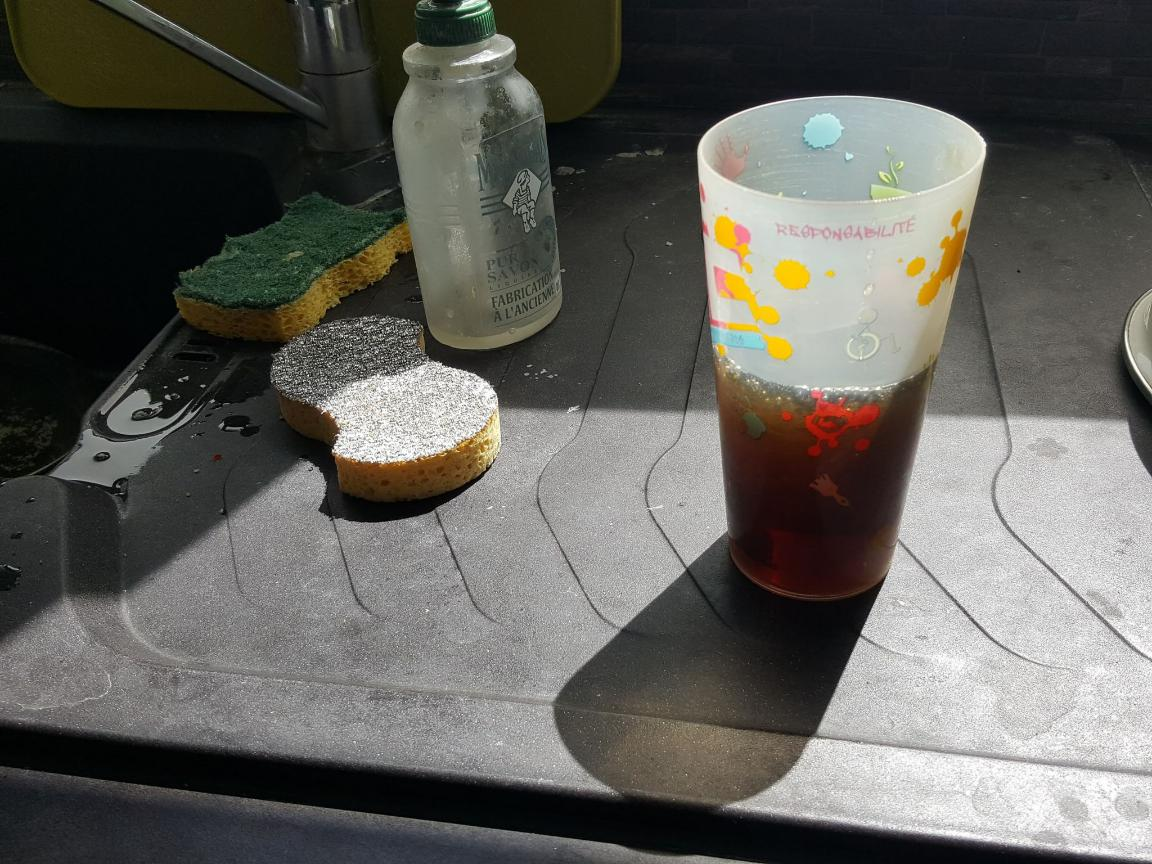ecocup: (697, 93, 987, 597)
